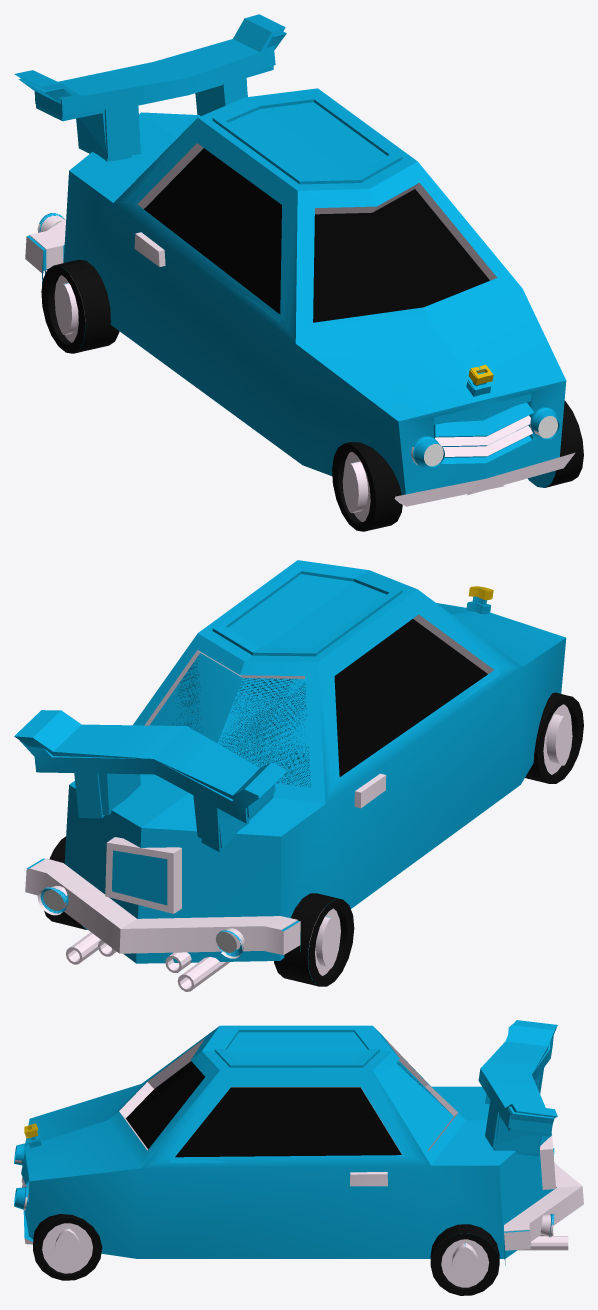
3 views of the same model, one above another, from view 1: azimuth 30°, elevation 25°; view 2: azimuth 150°, elevation 25°; view 3: azimuth 270°, elevation 25° (orthographic). The views are drawn at different scales.
Parts seen in each view (by area): view 1: Cube.001; view 2: Cube.001; view 3: Cube.001.
Part boxes in pixels (left/top/right/bottom): Cube.001: left=14, top=14, right=583, bottom=531; Cube.001: left=14, top=560, right=583, bottom=991; Cube.001: left=14, top=1020, right=583, bottom=1295.
Bounding box in the file's own units: 563 × 514 × 1329.
